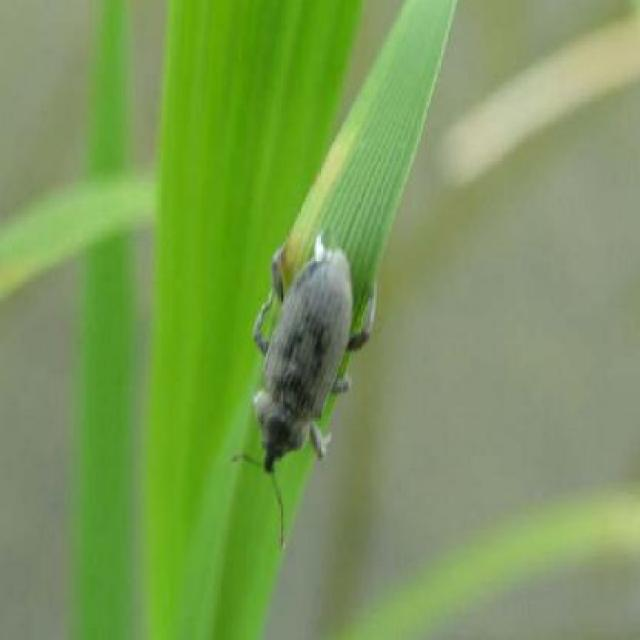rice-bug: (223, 240, 385, 491)
